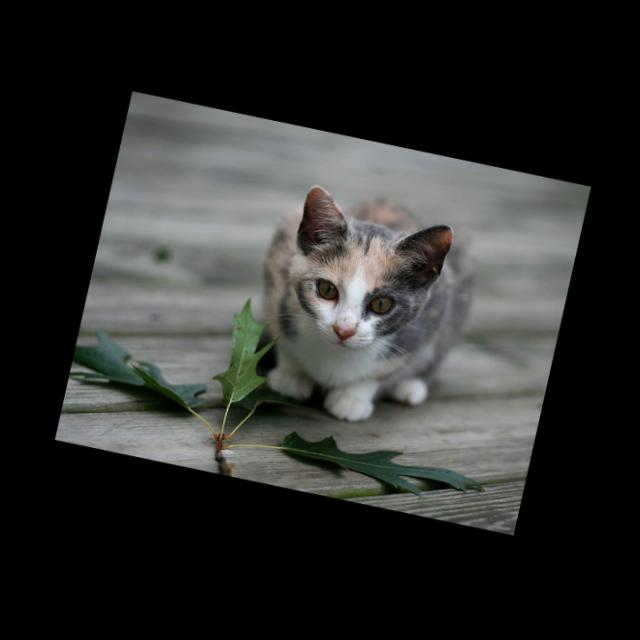animals: (279, 183, 452, 358)
